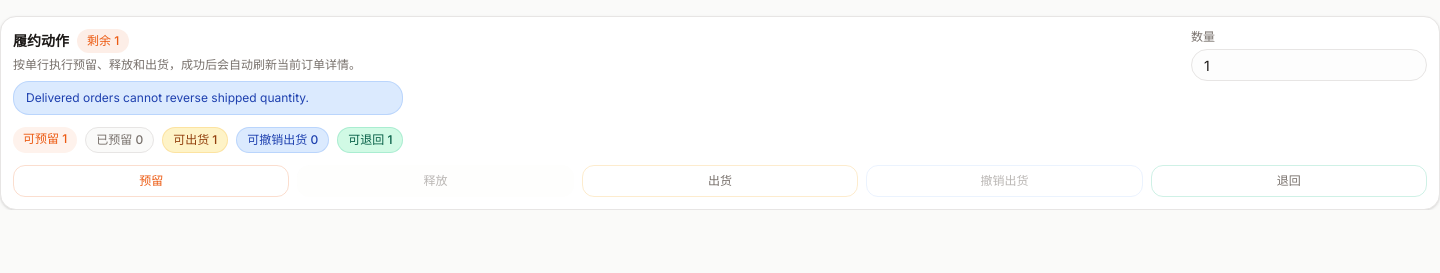
OrderLineCommandPanel › caps return quantity by shipped minus already returned quantity
Replace the text in the number field labelled "数量" with "2" at {"x": 1309, "y": 65}, box [1191, 49, 1427, 81]
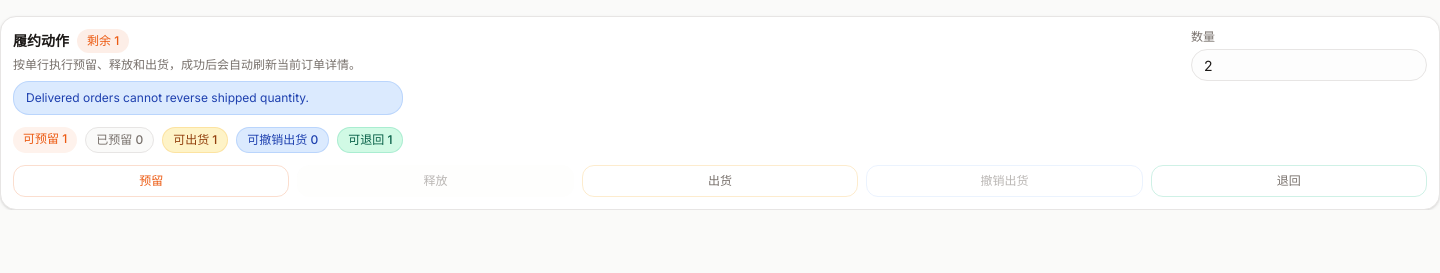
Click the button with test id "line-command-return" at {"x": 1289, "y": 181}, box [1151, 165, 1427, 197]
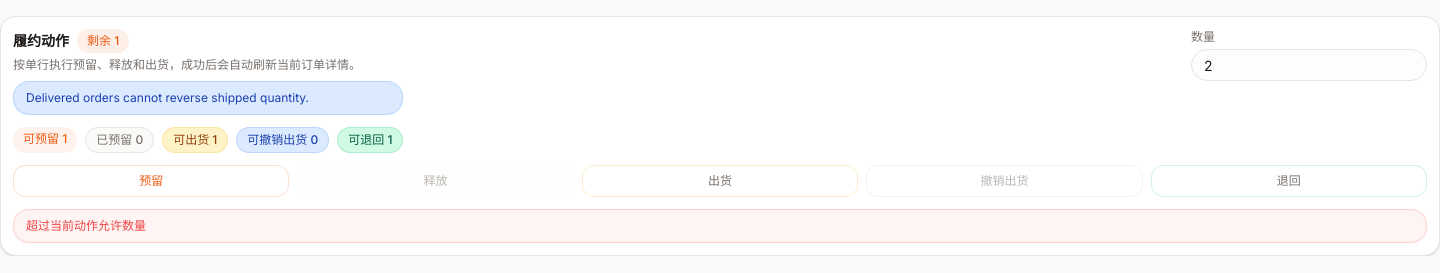
Expected: the text "超过当前动作允许数量" is shown, [13, 209, 1427, 243]
